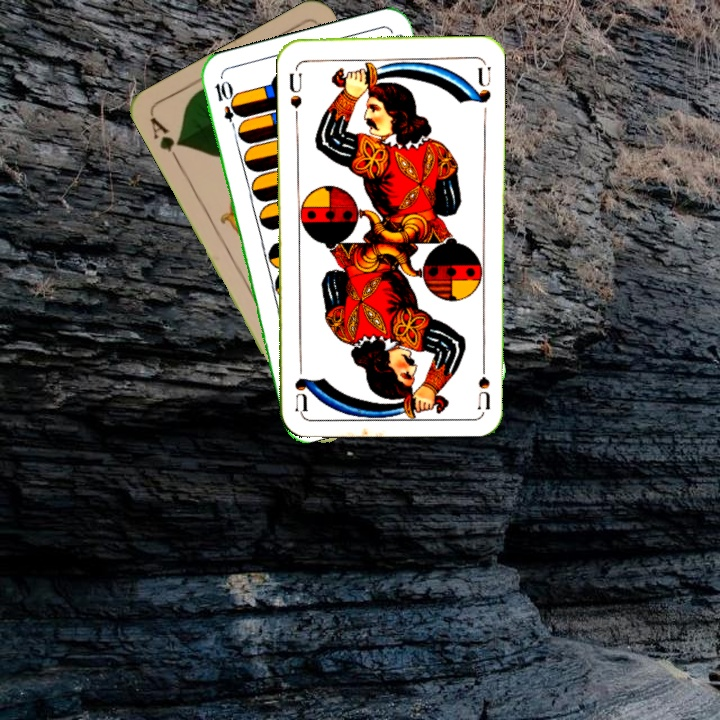E10: (211, 77, 241, 135)
GA: (145, 112, 186, 167)
SU: (285, 62, 305, 121), (473, 351, 492, 410)
